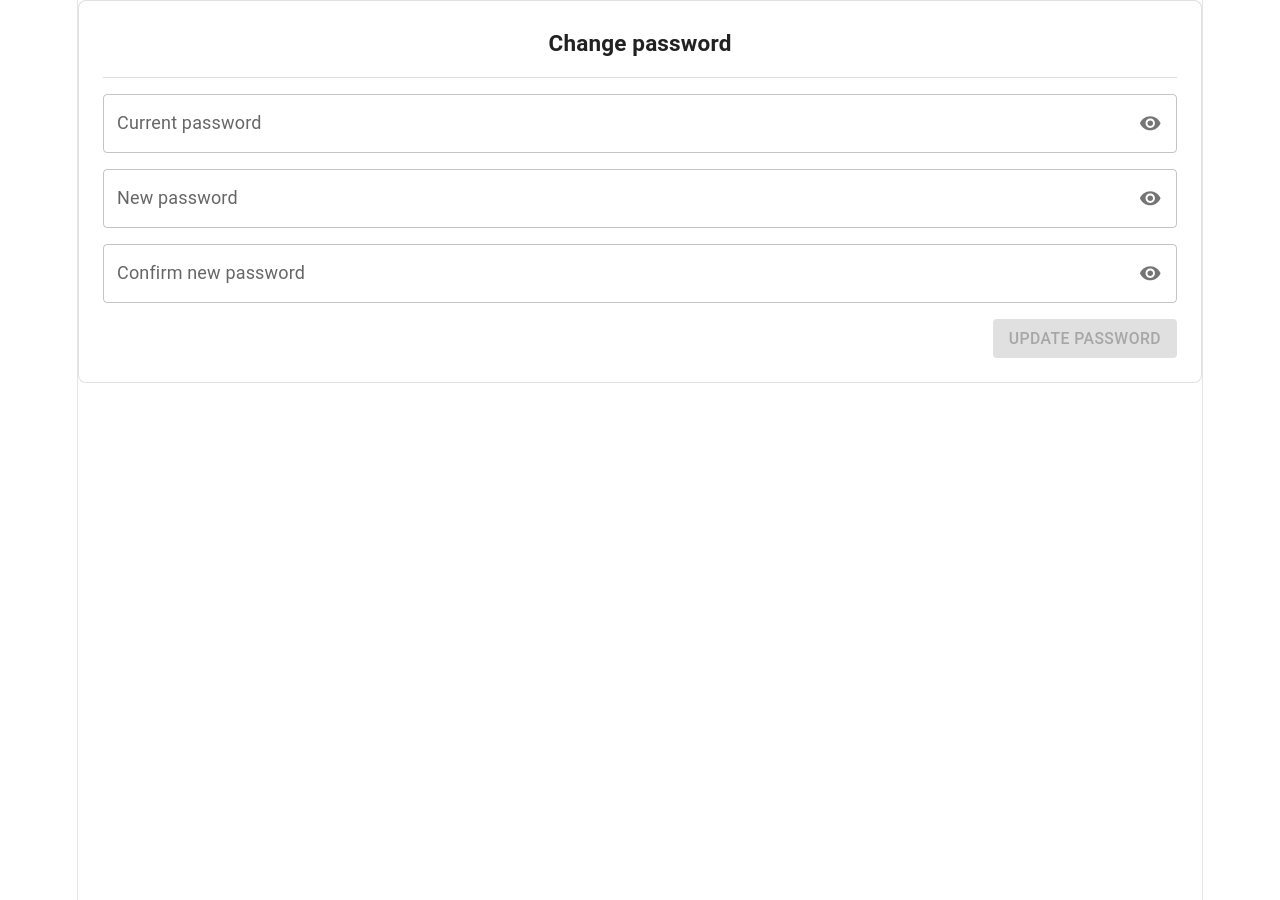
ChangePasswordSection › shows the API error message on failure
Type "WrongPassw0rd!" into the password field labelled "Current password" at (614, 123), box [103, 94, 1126, 153]
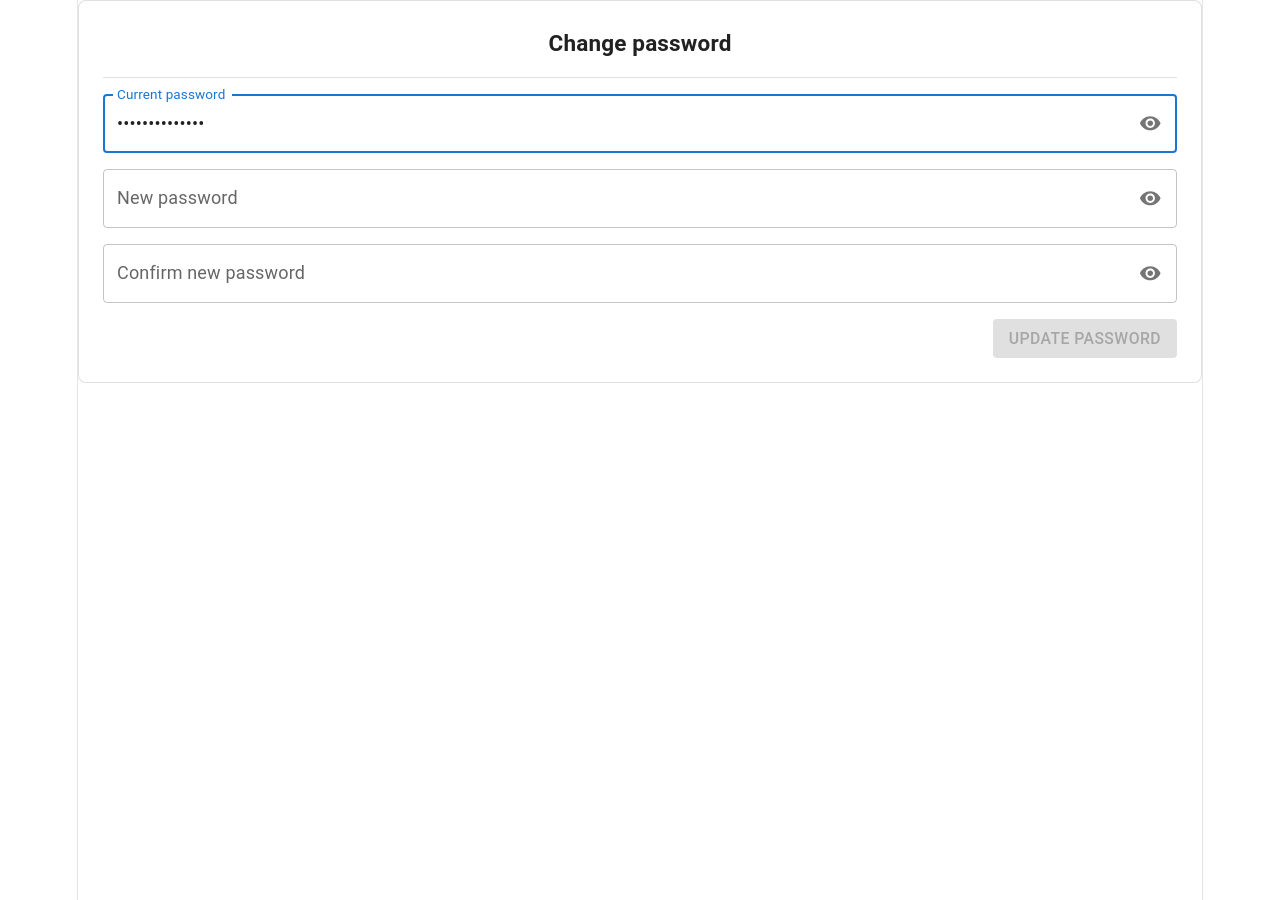
Type "BrandNewSecret9!" into the password field labelled "New password" at (614, 198), box [103, 169, 1126, 228]
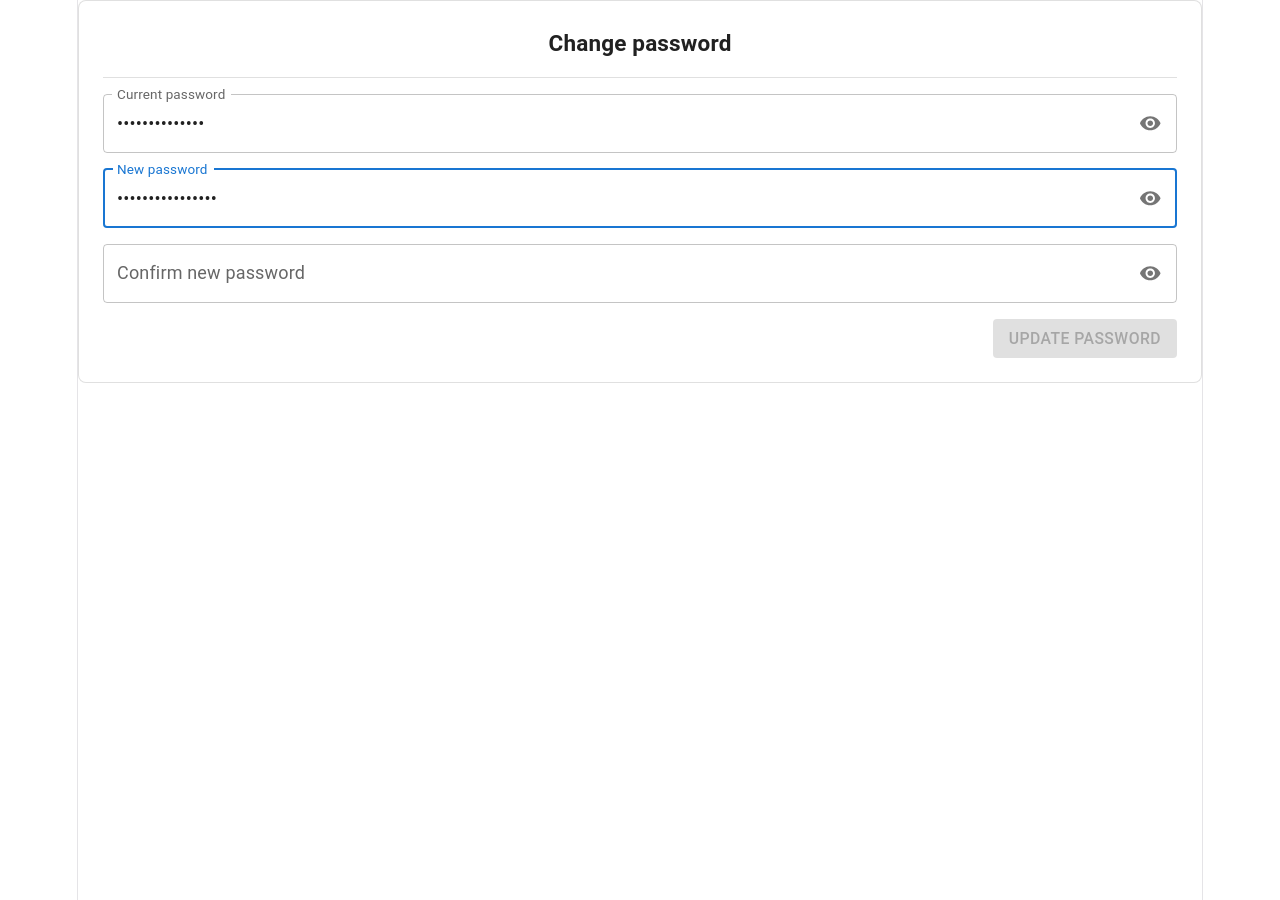
Type "BrandNewSecret9!" into the password field labelled "Confirm new password" at (614, 273), box [103, 244, 1126, 303]
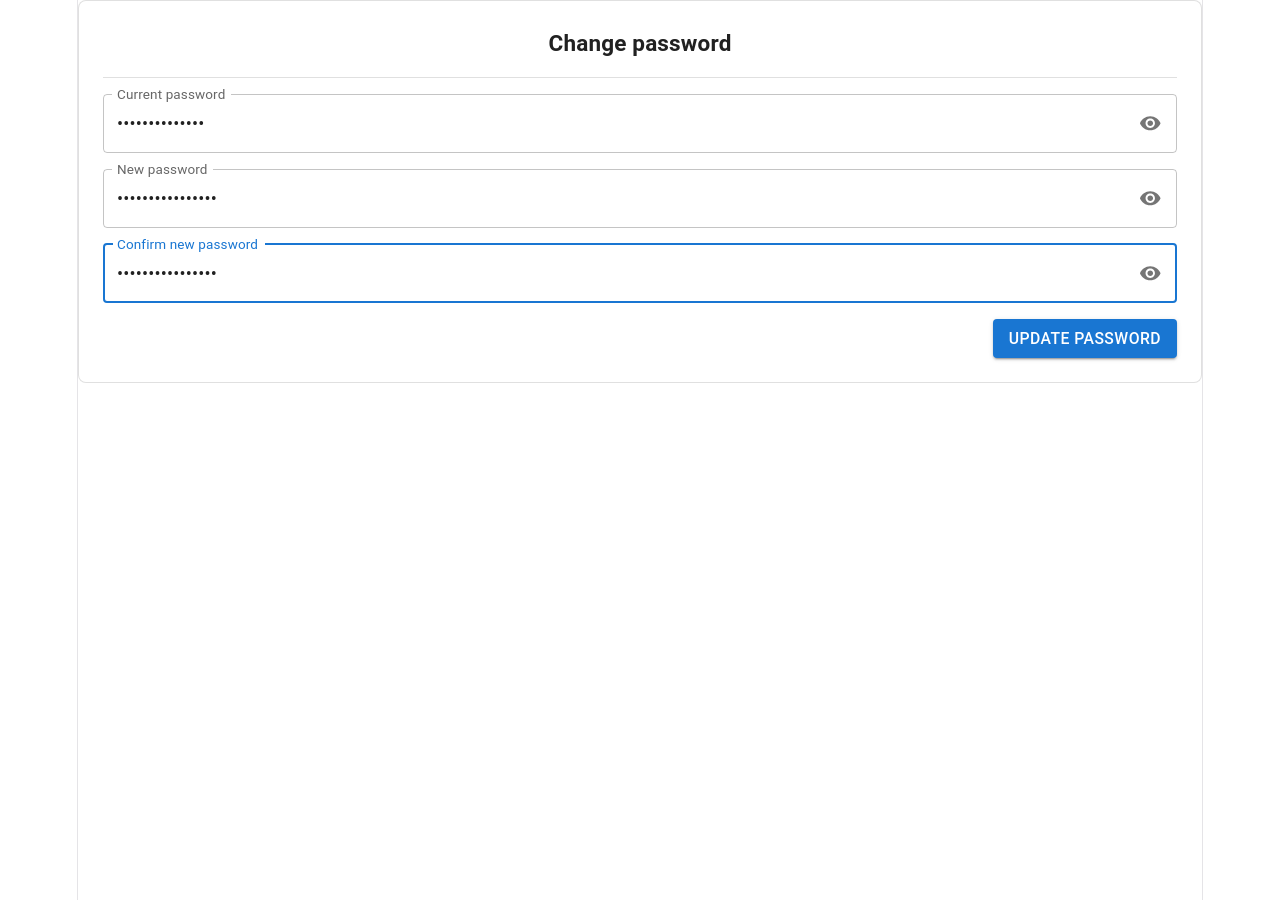
Click the button "Update password" at (1085, 338), box [993, 319, 1177, 358]
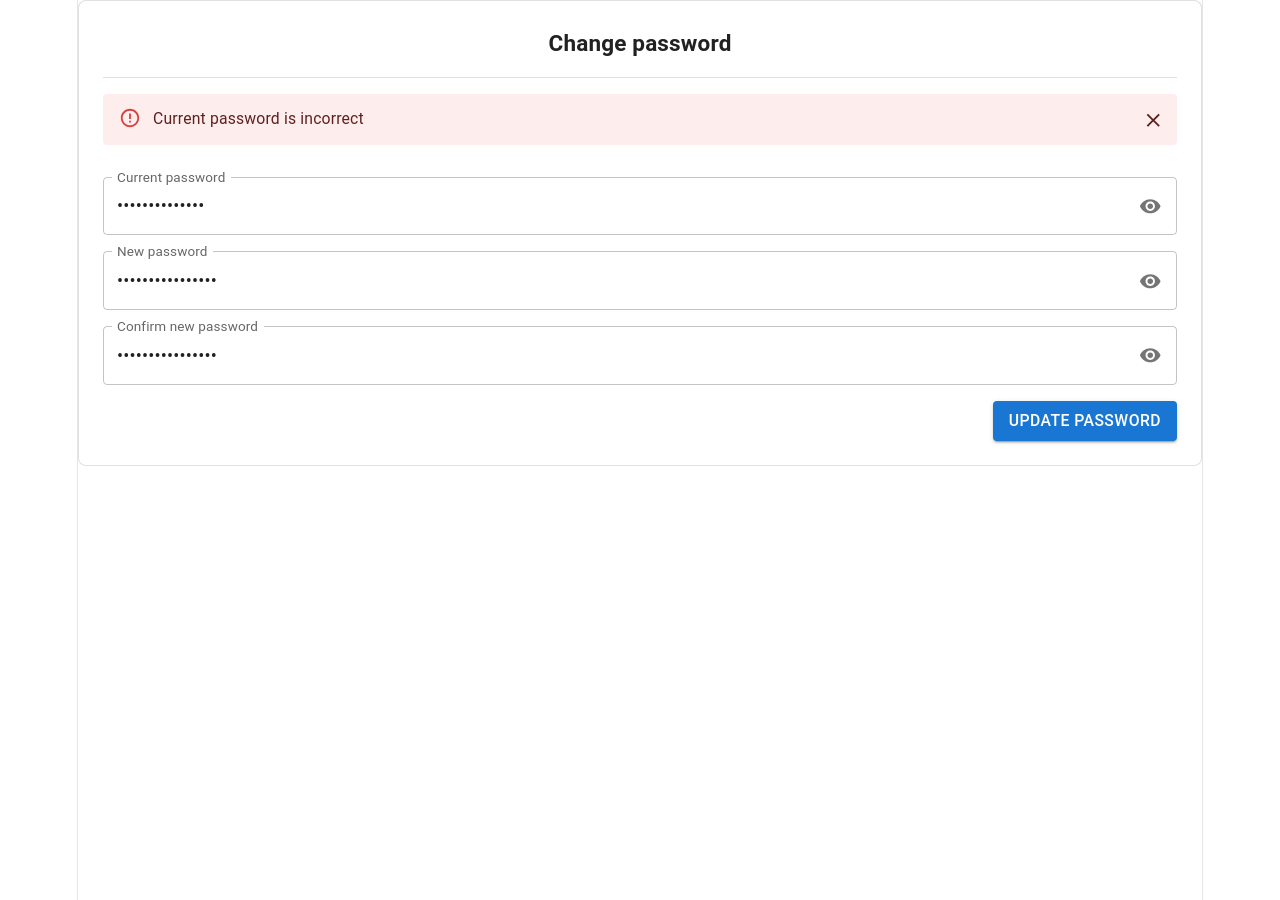
Expected: the text "Current password is incorrect" is shown, [153, 109, 364, 128]
